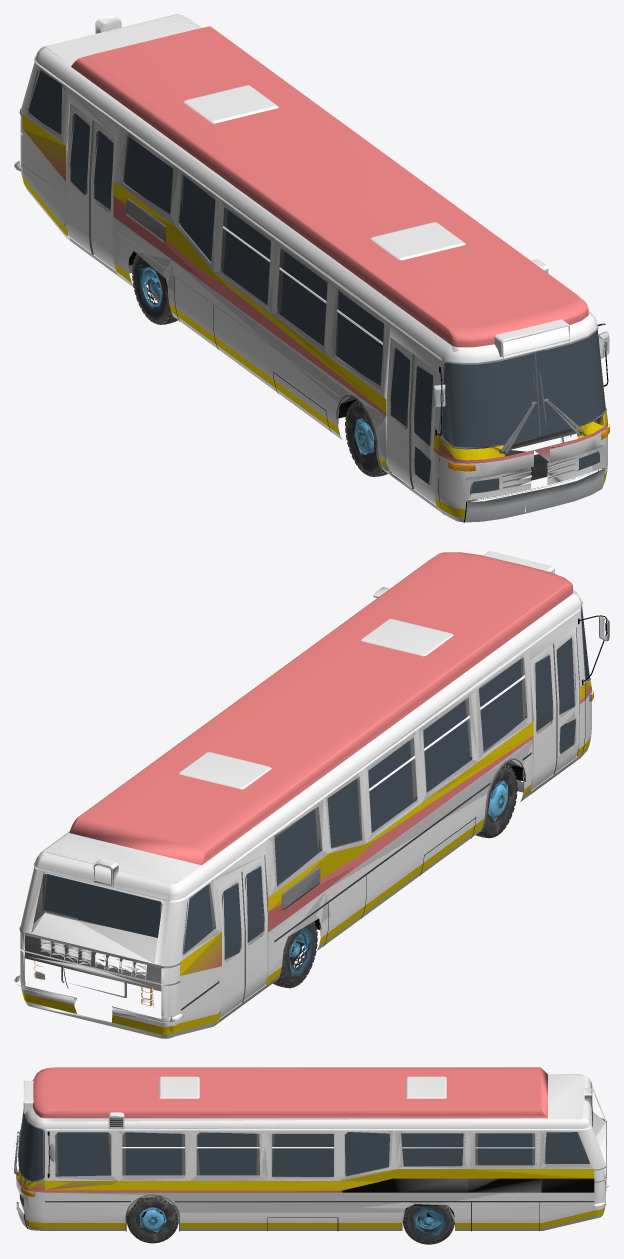
File: town_bus.glb
3 renders of one model, top to bottom at view 1: azimuth 30°, elevation 25°; view 2: azimuth 150°, elevation 25°; view 3: azimuth 270°, elevation 25°, orthographic. The views are drawn at different scales.
Visible parts, largest first — view 1: hi, hi_glass, mid, lo; view 2: hi, hi_glass, mid, lo; view 3: hi, mid, hi_glass, lo.
Part boxes in pixels (box(x1,y1,x2,y2)): hi: box(14, 14, 609, 522); hi_glass: box(28, 70, 605, 492); mid: box(18, 14, 608, 504); lo: box(23, 20, 604, 501); hi: box(14, 551, 609, 1038); hi_glass: box(44, 606, 589, 959); mid: box(18, 591, 607, 1037); lo: box(16, 613, 589, 1021); hi: box(14, 1067, 609, 1244); mid: box(16, 1074, 606, 1240); hi_glass: box(18, 1108, 592, 1205); lo: box(16, 1089, 606, 1236).
Size of the model in its own units: 2.73 by 2.77 by 11.2.
